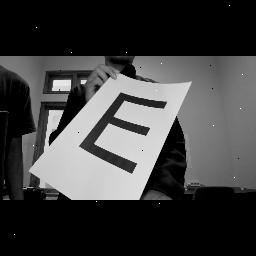e: (74, 89, 170, 181)
